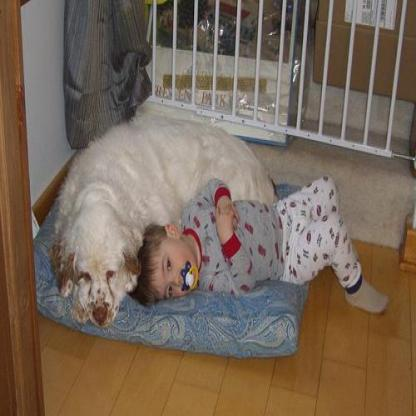clumber: (50, 114, 274, 327)
